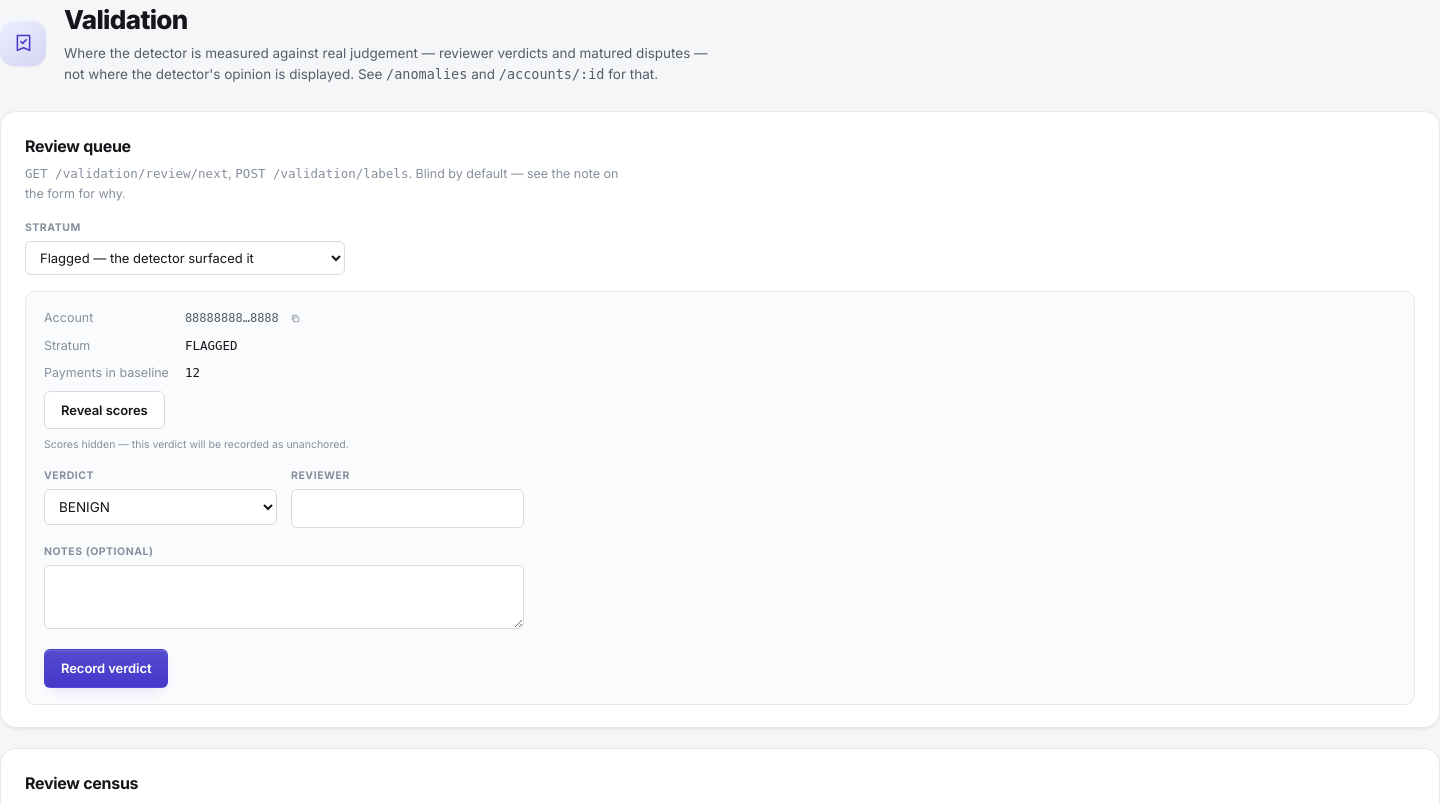
Test: ValidationPage › reveals scores only on explicit request, and then records the label as anchored
Click the button "Reveal scores": (104, 410) top-left (44, 390), bottom-right (165, 429)
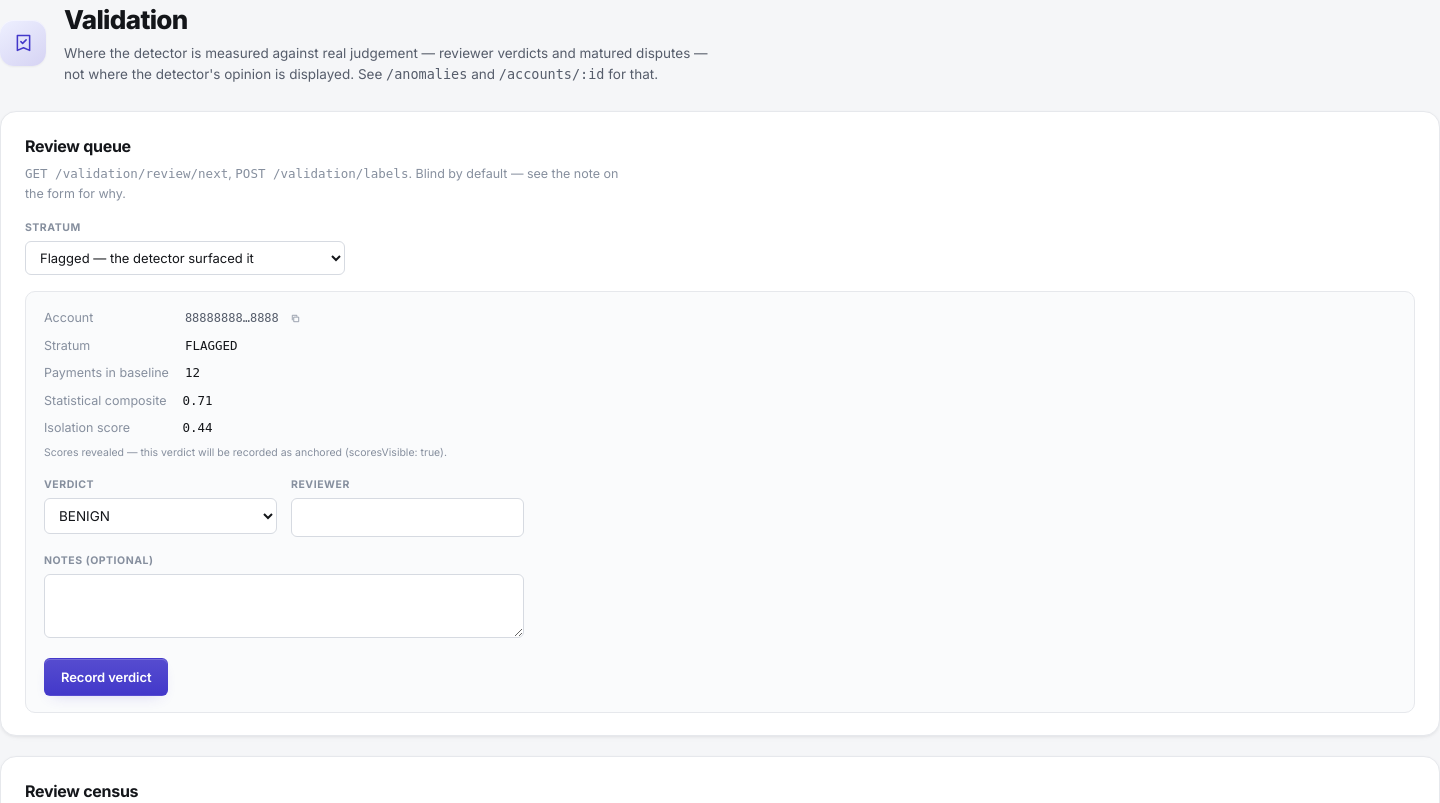
Result: the text "0.71" is shown at top-left (182, 392), bottom-right (213, 408)
Result: the text "recorded as anchored" is shown at top-left (44, 446), bottom-right (447, 459)
